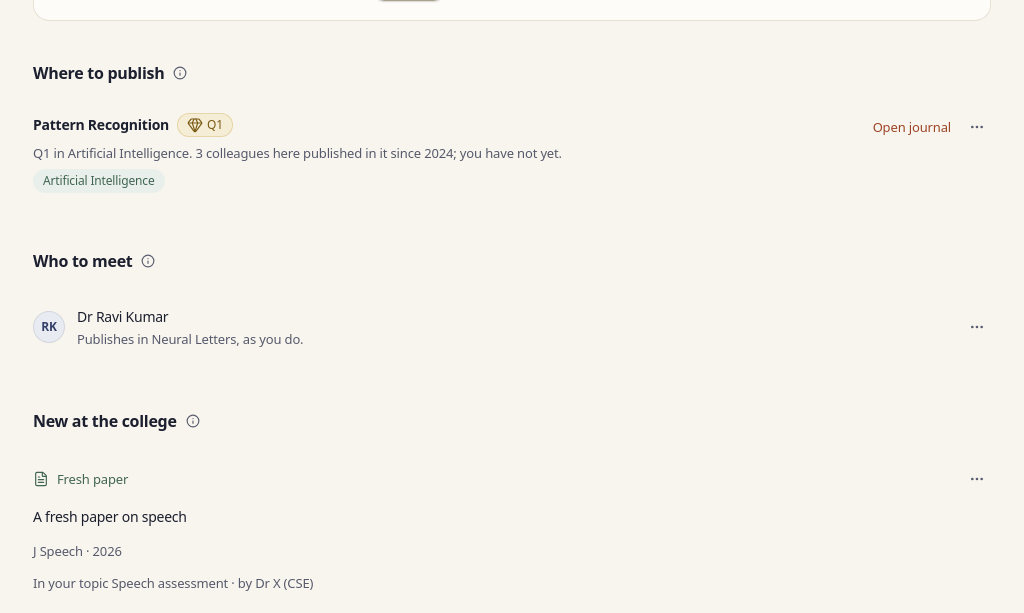
it: Discover — the For-you magazine › hides a card marked Not interested
The image size is (1024, 613).
(page scrolled)
Expected: the heading "A fresh paper on speech" is shown, [33,507,187,526]
Press the mouse on the button named "More about A fresh paper on speech" at {"x": 977, "y": 479}, box [963,465,991,493]
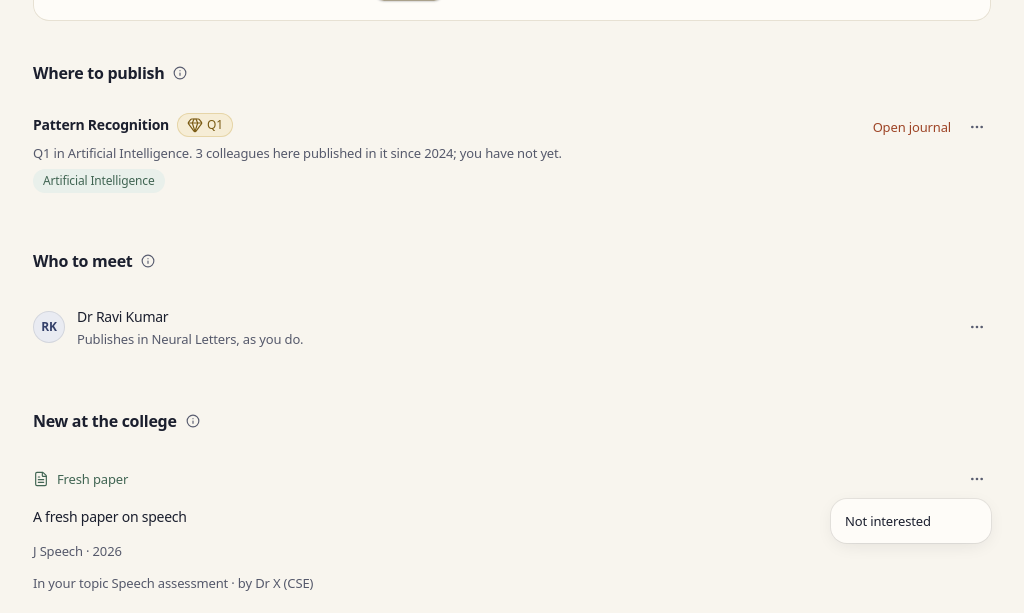
Click the menu item "Not interested".
click(888, 521)  # box [845,512,931,530]
(page scrolled)
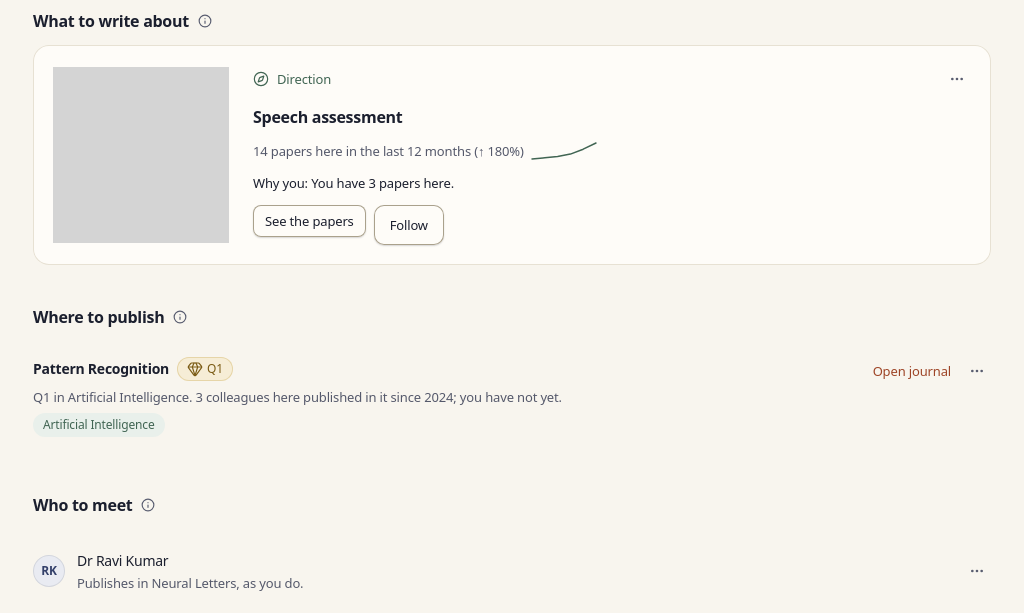
Result: the heading "A fresh paper on speech" is gone
